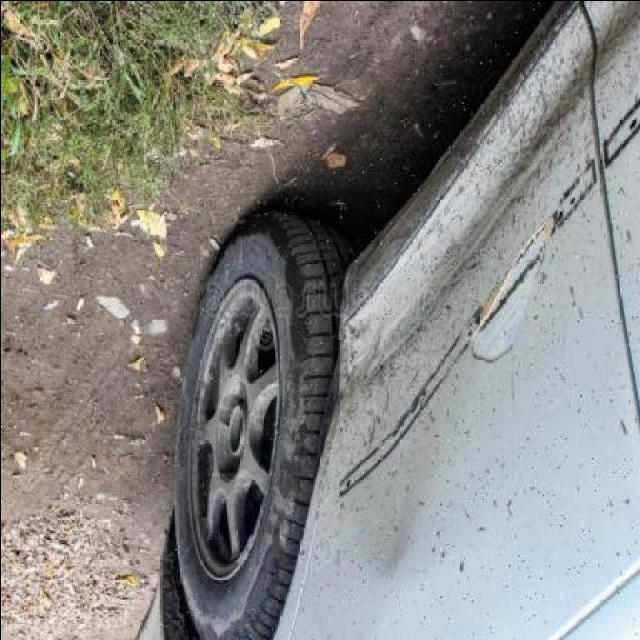doorouter-dent: (298, 127, 637, 639)
